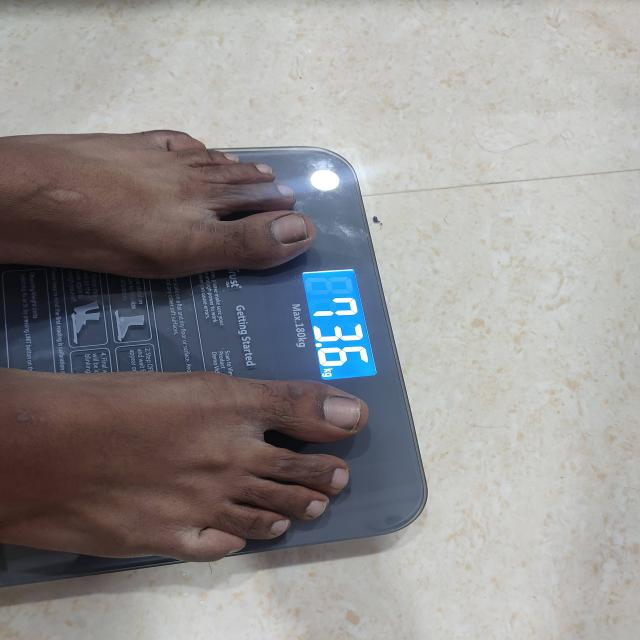ws: (0, 146, 426, 569)
